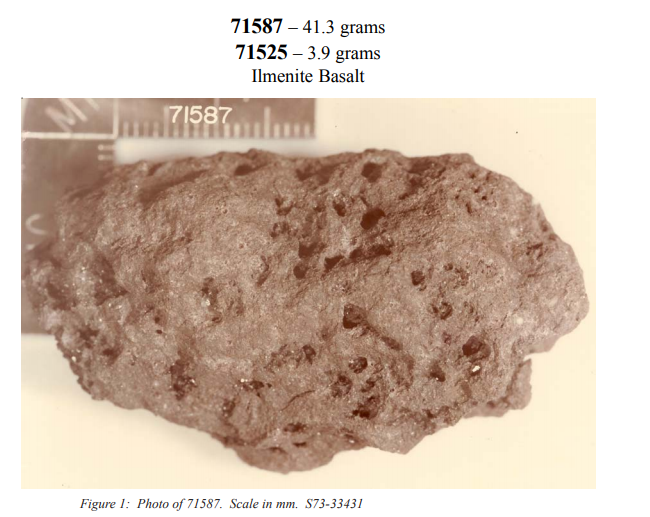Basalt: (65, 127, 555, 454)
